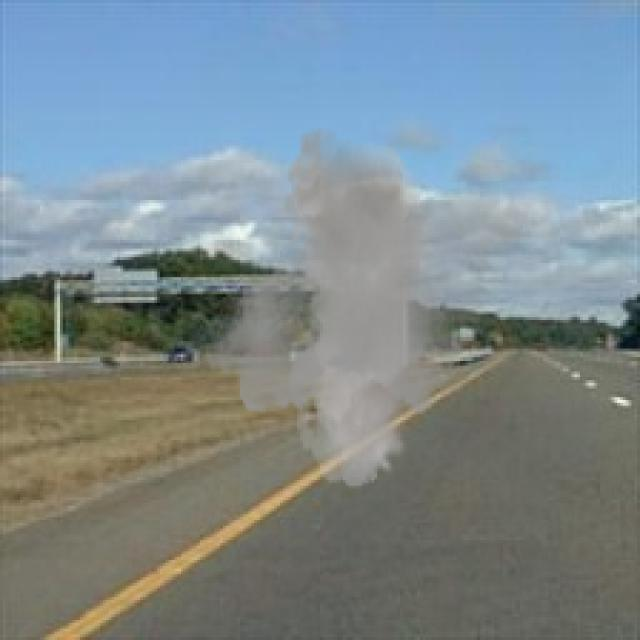smoke: (194, 126, 540, 488)
